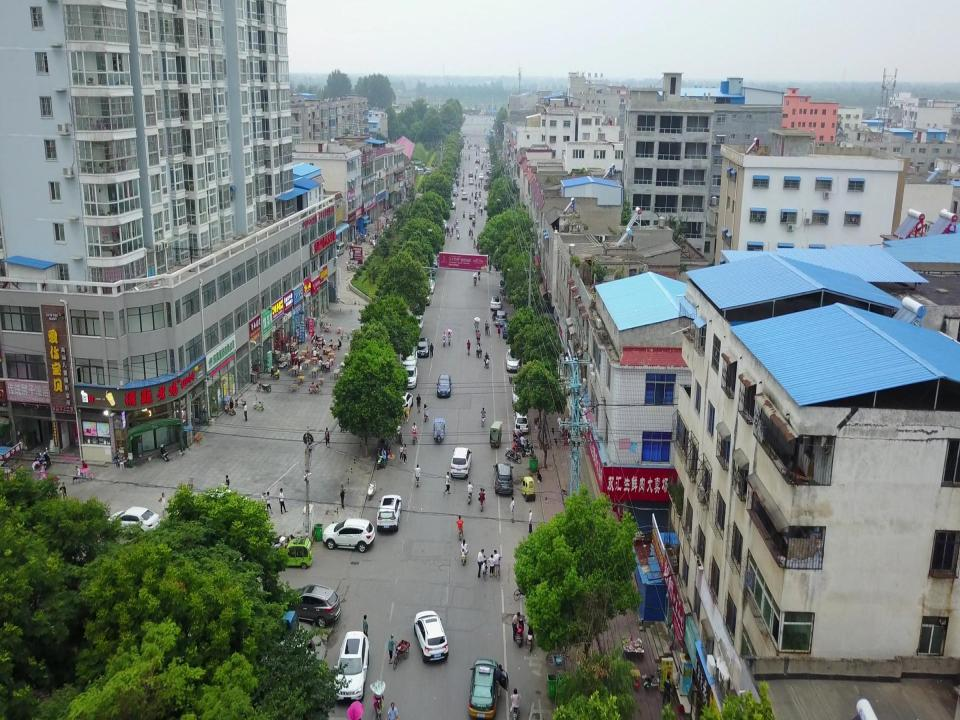car: (333, 631, 369, 703), (283, 584, 341, 628), (470, 658, 508, 719), (414, 610, 450, 664), (321, 518, 375, 553), (106, 504, 160, 530), (376, 494, 402, 533), (492, 462, 514, 496), (450, 447, 472, 480), (402, 365, 418, 389), (513, 410, 529, 433), (436, 374, 452, 396), (401, 345, 417, 367), (506, 348, 520, 371), (511, 384, 527, 404), (397, 392, 413, 411), (416, 337, 430, 357), (491, 308, 507, 325), (412, 313, 424, 332), (502, 321, 514, 339), (490, 295, 502, 311), (423, 279, 435, 294), (427, 253, 439, 267), (469, 209, 475, 219), (440, 219, 446, 228), (461, 192, 467, 200), (468, 177, 474, 184), (452, 188, 458, 195), (449, 201, 455, 208), (412, 166, 418, 172), (423, 168, 431, 172), (479, 172, 483, 180), (468, 171, 472, 177), (481, 148, 485, 153), (475, 158, 479, 163), (488, 168, 492, 173)
van: (419, 290, 431, 305), (334, 241, 345, 256), (418, 167, 424, 175), (487, 163, 492, 168)
